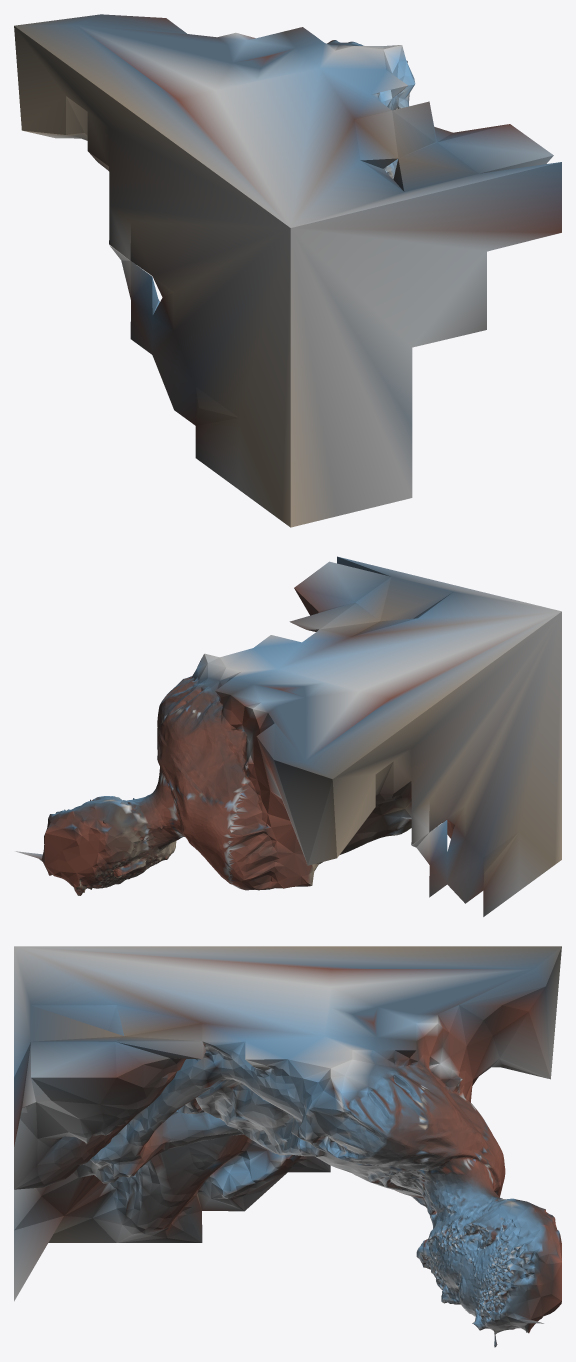
The model's file is Portfolio_Batch_1_Model_5.obj.
3 views of the same model, one above another, from view 1: azimuth 30°, elevation 25°; view 2: azimuth 150°, elevation 25°; view 3: azimuth 270°, elevation 25° (orthographic). The views are drawn at different scales.
Visible parts, largest first — view 1: default; view 2: default; view 3: default.
Boxes of the visible parts, box(x1,y1,x2,y2) form: default: box(14, 14, 561, 527); default: box(15, 556, 561, 916); default: box(14, 946, 561, 1347).
Size of the model in its own units: 1.27 by 0.926 by 1.55.
